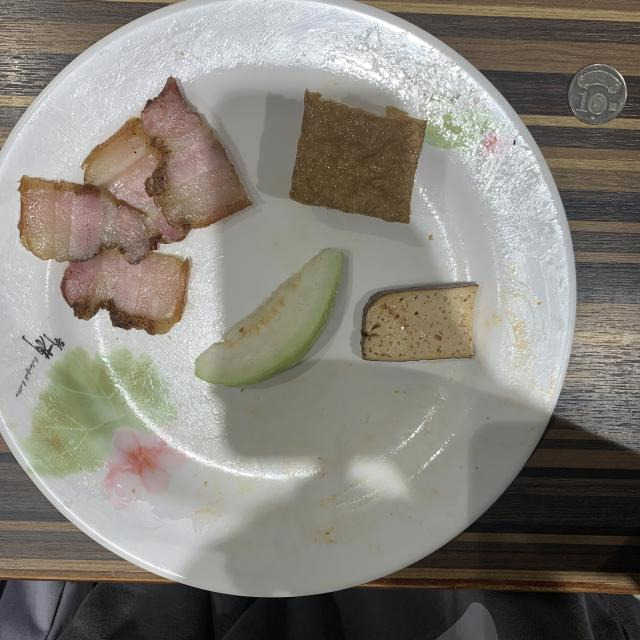coin: (569, 64, 626, 125)
egg tofu: (289, 90, 426, 224)
firm tofu: (361, 285, 478, 361)
grilled pork: (19, 78, 251, 334)
guava -sliced-: (195, 249, 342, 386)
